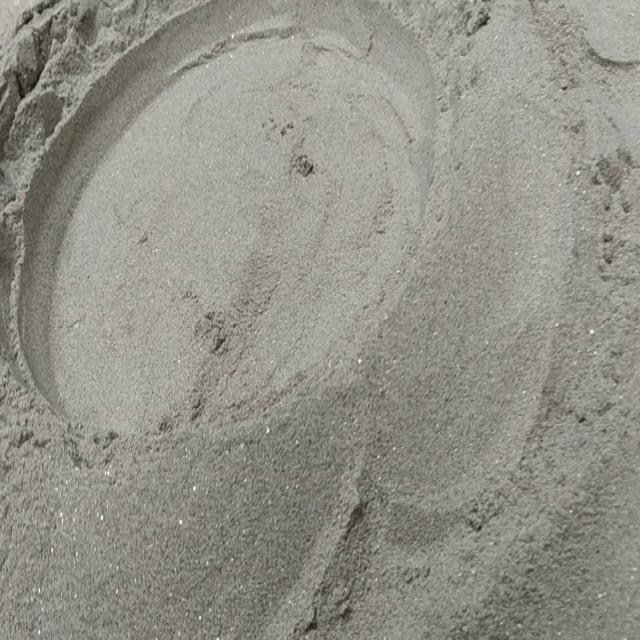C40: (12, 0, 435, 427)
